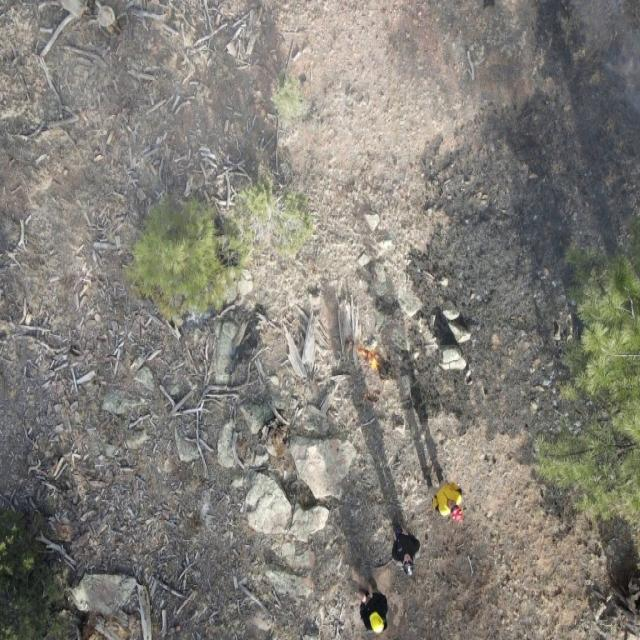fire: (348, 336, 390, 384)
smoke: (594, 0, 640, 109)
